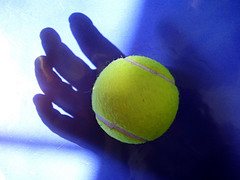tennis ball: (89, 53, 184, 146)
